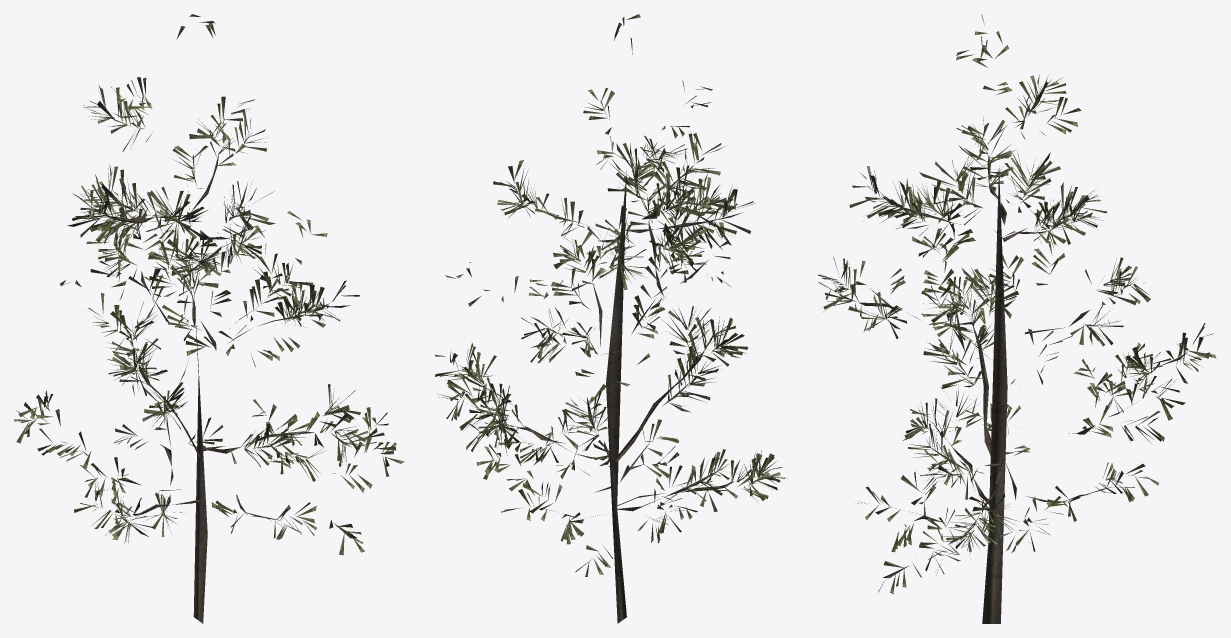
The model's file is pine-young-far.glb.
The picture shows the model from 3 angles, left to right: view 1: azimuth 30°, elevation 25°; view 2: azimuth 150°, elevation 25°; view 3: azimuth 270°, elevation 25°; orthographic projection.
Parts seen in each view (by area): view 1: pine_sapling_small_c; view 2: pine_sapling_small_c; view 3: pine_sapling_small_c.
Boxes of the visible parts, x1,y1,x2,y2 form: pine_sapling_small_c: (14, 14, 404, 623); pine_sapling_small_c: (435, 14, 787, 623); pine_sapling_small_c: (818, 14, 1216, 623).
Bounding box in the file's own units: 0.5084 × 0.9496 × 0.5701.
2 materials, 2 textured.
